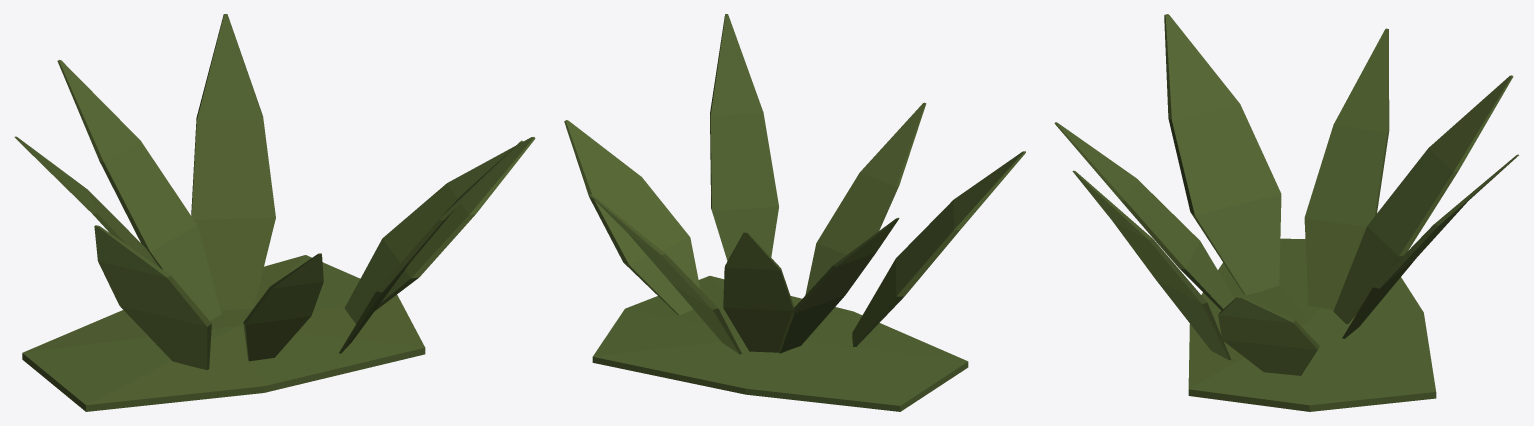
File: plant_008b_submerged_algae.glb
The picture shows the model from 3 angles, left to right: view 1: azimuth 30°, elevation 25°; view 2: azimuth 150°, elevation 25°; view 3: azimuth 270°, elevation 25°; orthographic projection. The views are drawn at different scales.
Parts seen in each view (by area): view 1: plant_008b_submerged_algae__paddles, plant_008b_submerged_algae__contact; view 2: plant_008b_submerged_algae__paddles, plant_008b_submerged_algae__contact; view 3: plant_008b_submerged_algae__paddles, plant_008b_submerged_algae__contact.
Boxes of the visible parts, x1,y1,x2,y2 form: plant_008b_submerged_algae__paddles: (14, 14, 535, 370); plant_008b_submerged_algae__contact: (22, 255, 425, 411); plant_008b_submerged_algae__paddles: (564, 14, 1025, 354); plant_008b_submerged_algae__contact: (592, 276, 968, 411); plant_008b_submerged_algae__paddles: (1054, 14, 1518, 375); plant_008b_submerged_algae__contact: (1188, 238, 1436, 411).
Size of the model in its own units: 0.5944 by 0.2926 by 0.5068.
